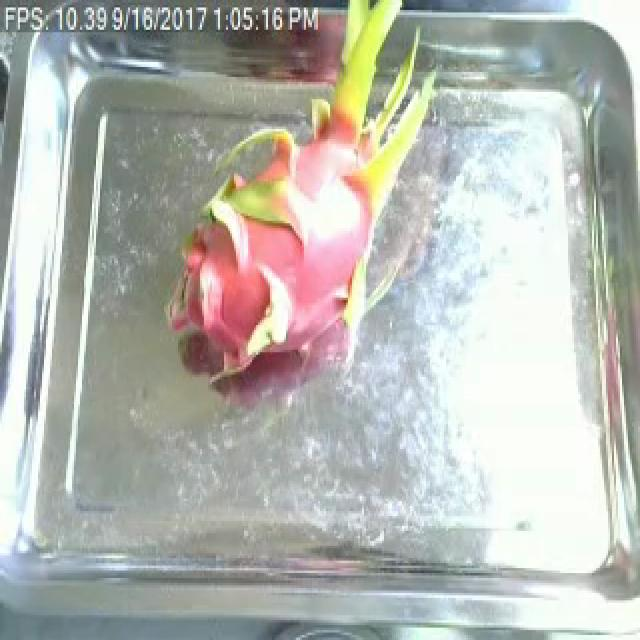fruit: (144, 10, 454, 397)
